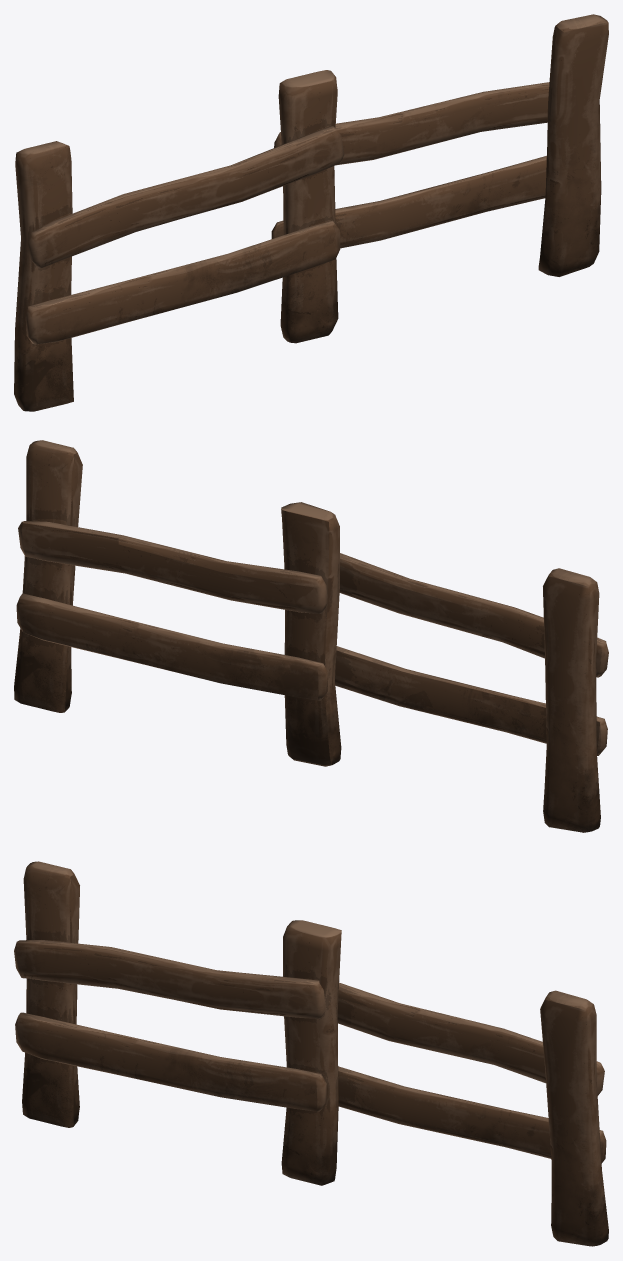
Rendered from fence_bien.fbx.
3 views of the same model, one above another, from view 1: azimuth 30°, elevation 25°; view 2: azimuth 150°, elevation 25°; view 3: azimuth 330°, elevation 25° (orthographic). The views are drawn at different scales.
Parts seen in each view (by area): view 1: g Group3428; view 2: g Group3428; view 3: g Group3428.
Boxes of the visible parts, box(x1,y1,x2,y2) form: g Group3428: box(14, 14, 608, 411); g Group3428: box(14, 440, 608, 832); g Group3428: box(14, 861, 608, 1246).
Bounding box in the file's own units: 311 × 132 × 28.7.
